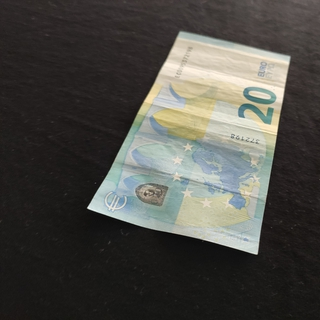20EUROBack: (87, 30, 291, 254)
